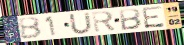1: (44, 15, 58, 37)
B: (17, 16, 44, 40), (119, 8, 143, 31)
E: (141, 5, 166, 30)
R: (91, 10, 118, 34)
U: (67, 11, 94, 35)
